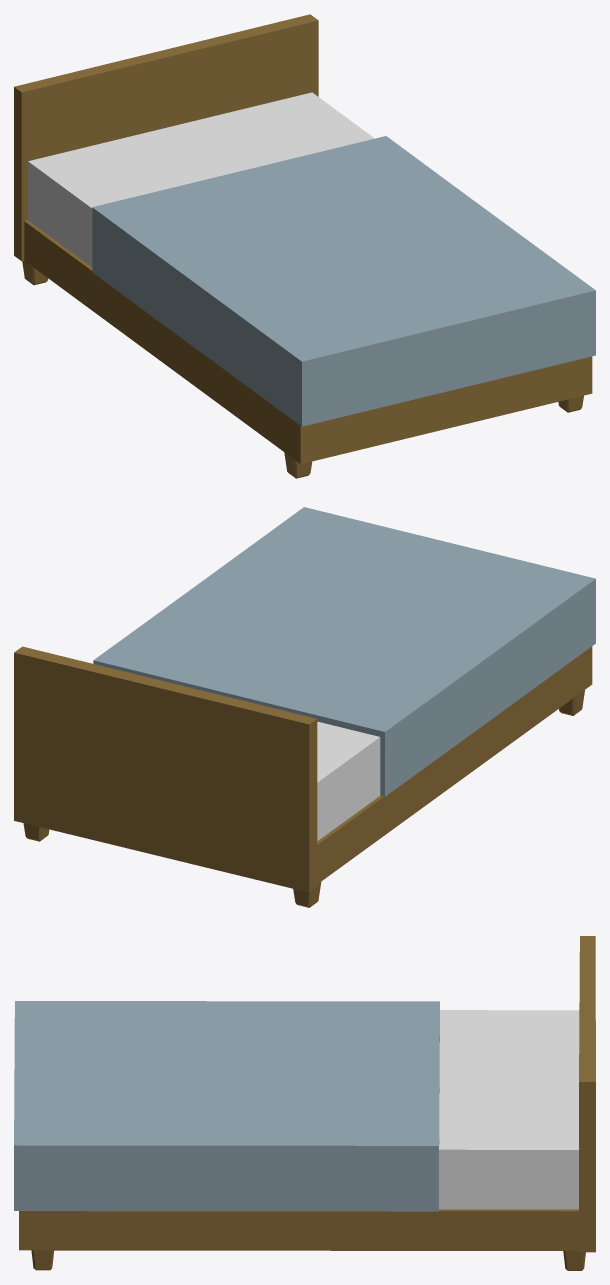
Rendered from Bed.fbx.
3 views of the same model, one above another, from view 1: azimuth 30°, elevation 25°; view 2: azimuth 150°, elevation 25°; view 3: azimuth 270°, elevation 25° (orthographic).
Parts seen in each view (by area): view 1: Mesh_0205.rip.003; view 2: Mesh_0205.rip.003; view 3: Mesh_0205.rip.003.
Part boxes in pixels (<box>): Mesh_0205.rip.003: <box>14,14,595,478</box>; Mesh_0205.rip.003: <box>14,507,595,907</box>; Mesh_0205.rip.003: <box>14,936,595,1270</box>.
Size of the model in its own units: 3.82 by 2.35 by 6.44.
